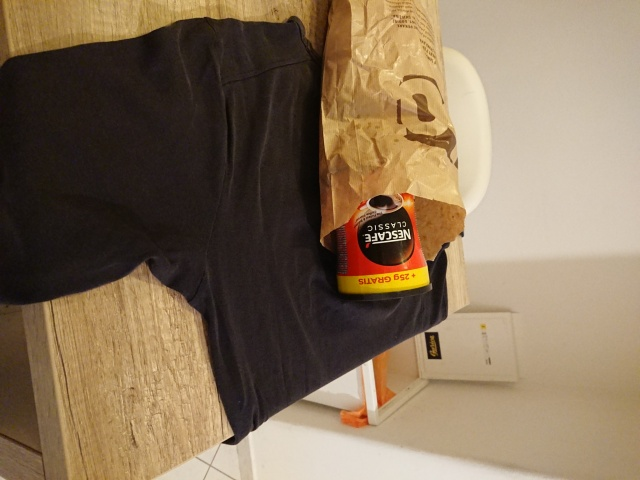Nescafe Classic 225g: (324, 151, 436, 305)
